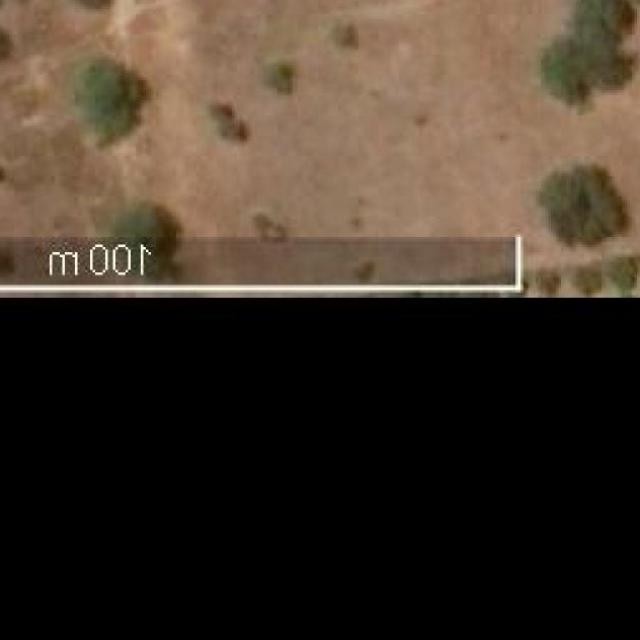Tree: (542, 0, 630, 87), (546, 171, 615, 237), (80, 65, 131, 139), (571, 262, 607, 295), (607, 254, 640, 288), (209, 103, 242, 134), (533, 267, 563, 296), (269, 65, 290, 90)
